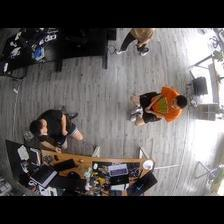normal: (128, 83, 190, 132), (28, 105, 85, 157)
